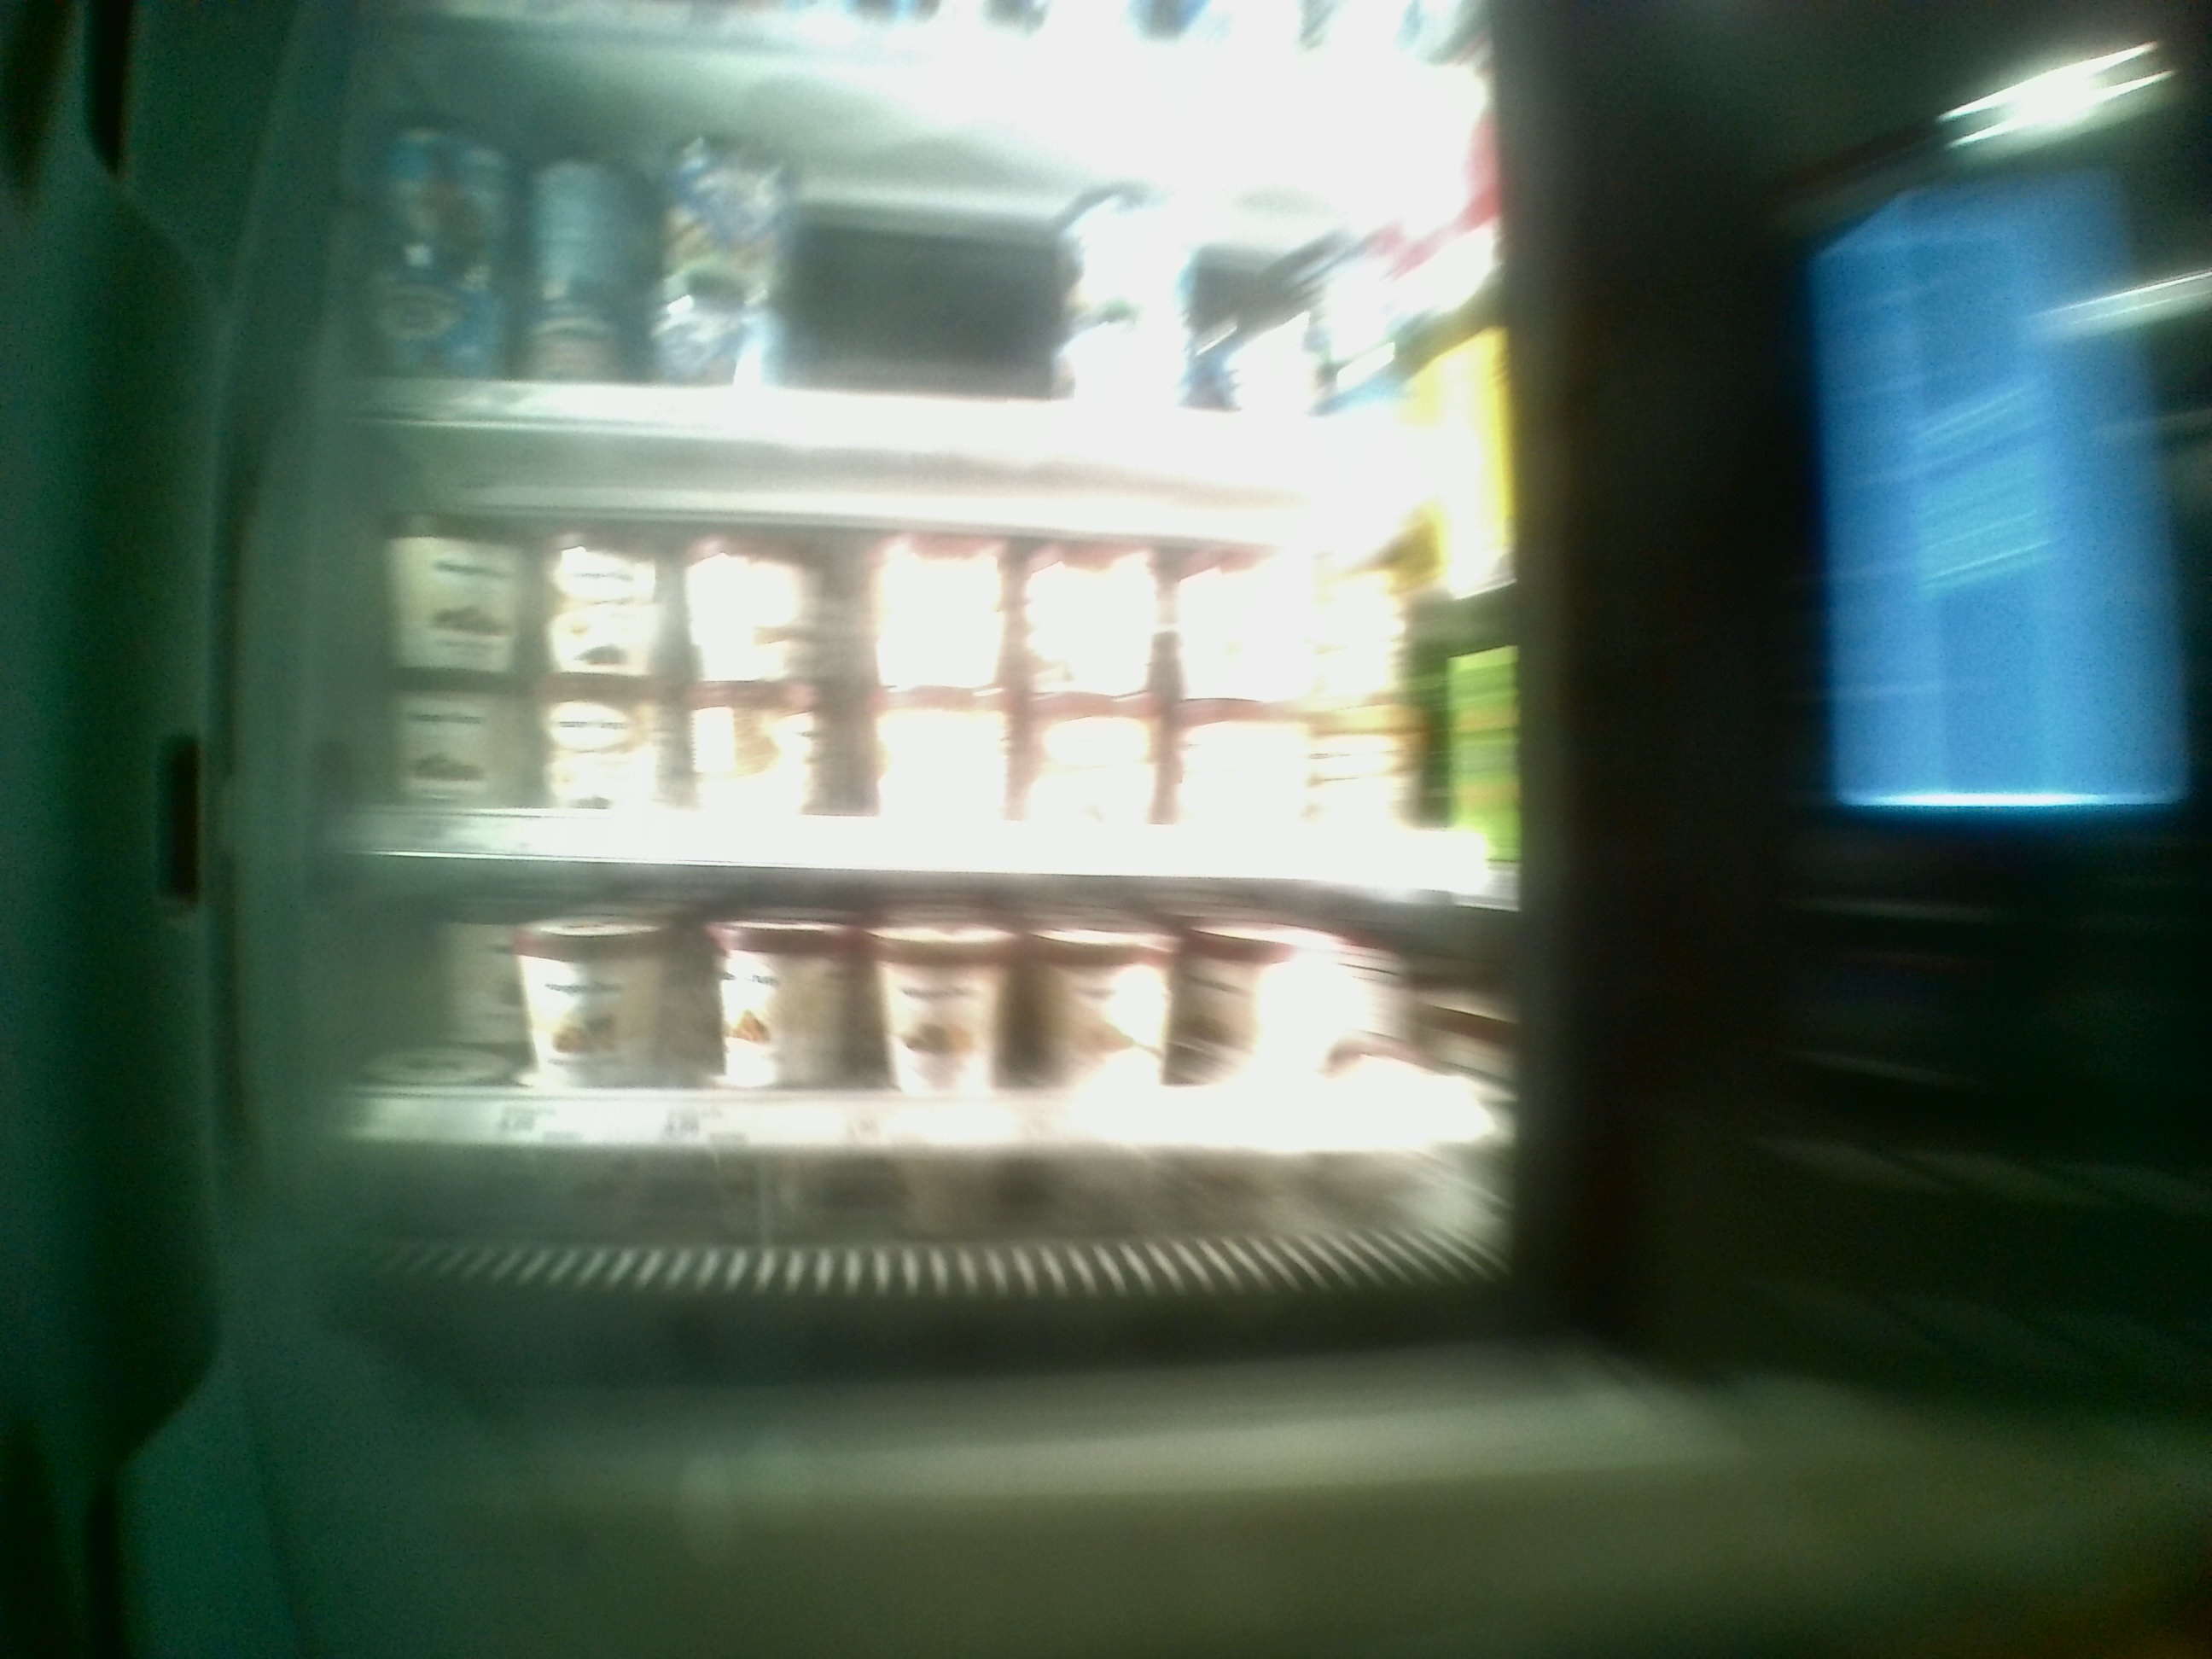shelf: (334, 420, 1489, 878), (347, 864, 1498, 1260)
